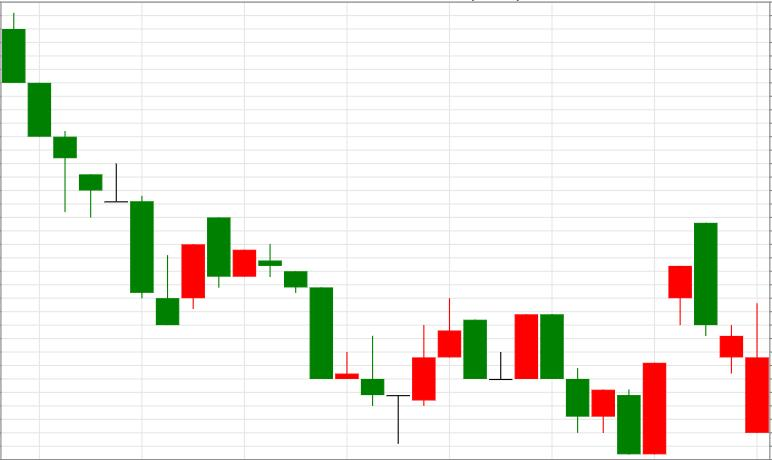bullish_engulfing_rise: (541, 314, 666, 454)
inverse_hammer_rise: (3, 12, 179, 325)
